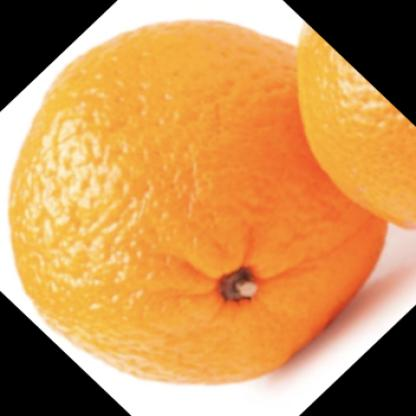fresh: (9, 22, 389, 385)
